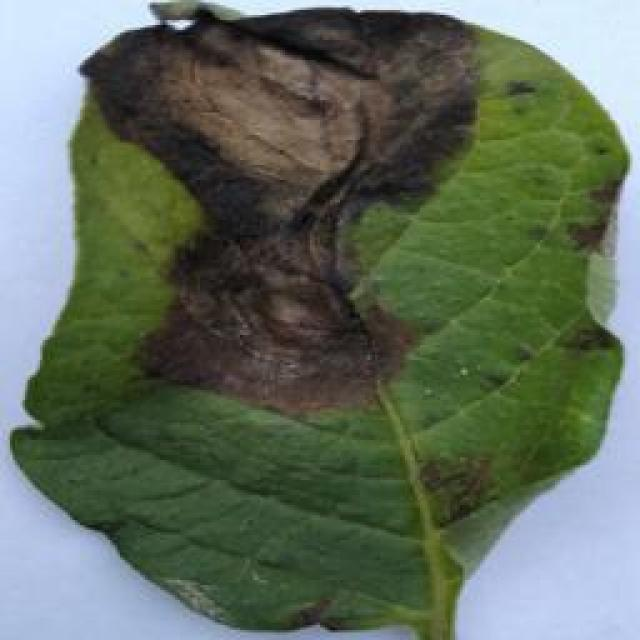Potato_Late_Blight: (5, 17, 625, 640)
